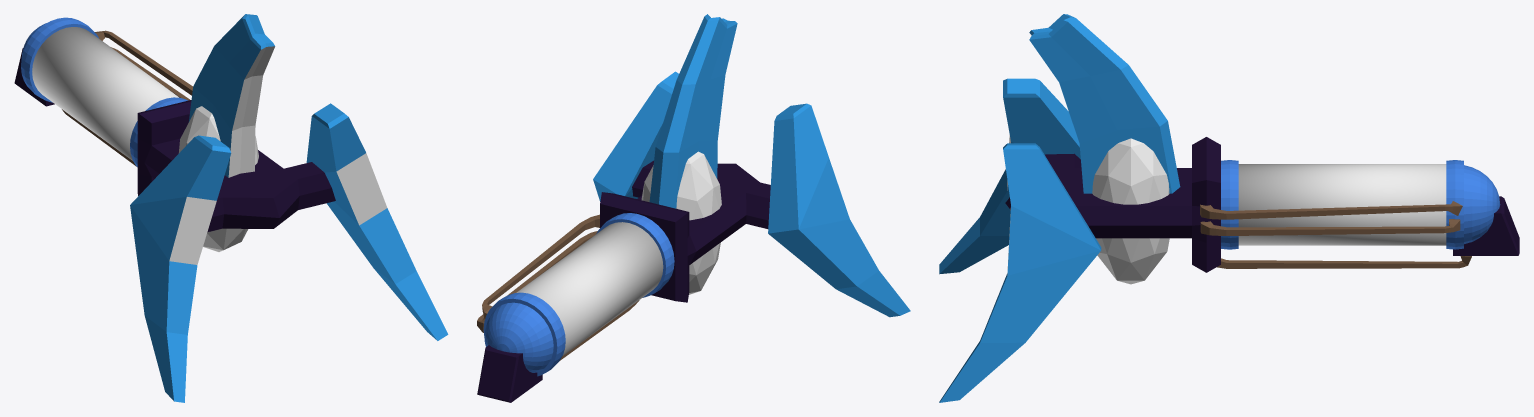
File: gull_v1.fbx
3 views of the same model, side by side, from view 1: azimuth 30°, elevation 25°; view 2: azimuth 150°, elevation 25°; view 3: azimuth 270°, elevation 25° (orthographic). The views are drawn at different scales.
Visible parts, largest first — view 1: fin L, engine, body, fin R, fin m, thrust m, thrust R, thrust L, cockpit, end cap, pipe.001, diode; view 2: fin L, engine, fin m, body, end cap, fin R, cockpit, mount b, diode, pipe.001, pipe; view 3: fin R, engine, fin m, body, fin L, cockpit, end cap, pipe.001, pipe, wire, mount b, diode.
Part boxes in pixels (x1,y1,x2,y2): fin L: [130, 135, 231, 402]; engine: [32, 27, 178, 160]; body: [137, 100, 335, 232]; fin R: [306, 103, 448, 340]; fin m: [188, 14, 274, 177]; thrust m: [228, 46, 274, 177]; thrust R: [336, 153, 387, 225]; thrust L: [169, 197, 216, 264]; cockpit: [178, 106, 258, 251]; end cap: [21, 17, 98, 102]; pipe.001: [95, 30, 192, 95]; diode: [130, 97, 187, 166]; fin L: [768, 103, 910, 317]; engine: [516, 222, 663, 355]; fin m: [649, 14, 737, 208]; body: [600, 160, 770, 302]; end cap: [483, 292, 565, 376]; fin R: [593, 71, 678, 201]; cockpit: [641, 151, 721, 294]; mount b: [477, 345, 542, 402]; diode: [596, 213, 674, 297]; pipe.001: [482, 214, 599, 318]; pipe: [477, 231, 597, 332]; fin R: [939, 143, 1101, 402]; engine: [1238, 164, 1446, 245]; fin m: [1029, 14, 1180, 193]; body: [1005, 137, 1220, 272]; fin L: [939, 78, 1080, 274]; cockpit: [1092, 138, 1169, 284]; end cap: [1446, 160, 1500, 249]; pipe.001: [1200, 201, 1462, 219]; pipe: [1200, 219, 1460, 235]; wire: [1217, 256, 1471, 268]; mount b: [1453, 196, 1519, 255]; diode: [1221, 160, 1238, 249].
Bounding box in the file's own units: 727 × 786 × 1288.
